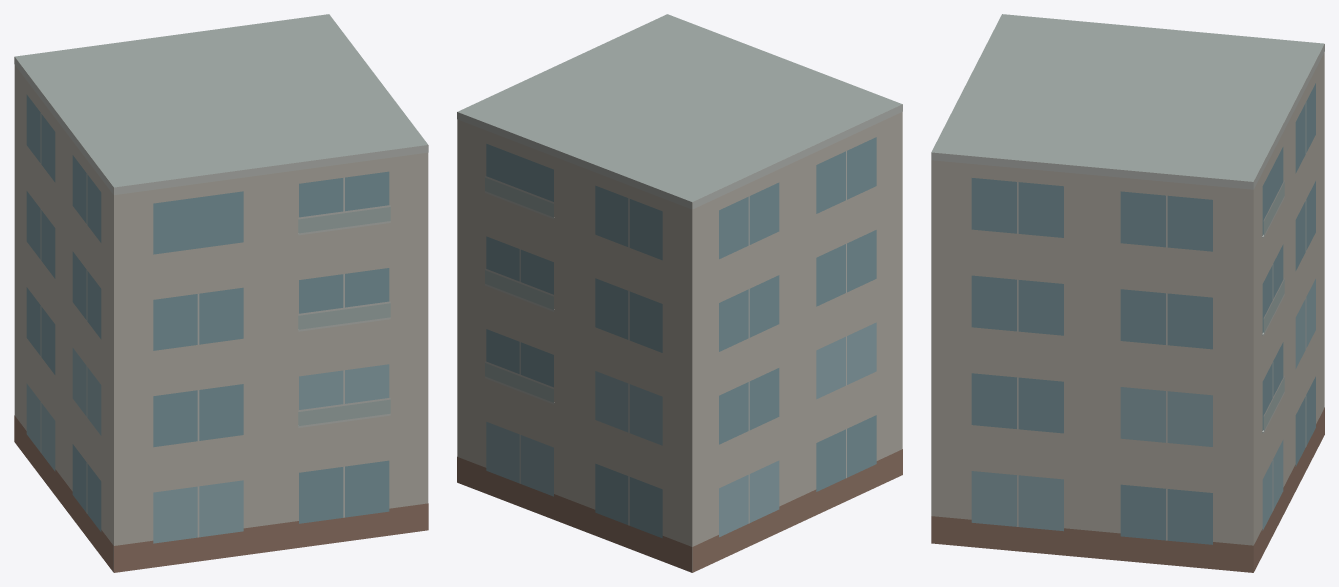
File: residential-bdf60ed7-2a9d-4e87-952f-36d0d0f51bb3.glb
3 renders of one model, left to right at view 1: azimuth 30°, elevation 25°; view 2: azimuth 150°, elevation 25°; view 3: azimuth 270°, elevation 25°, orthographic. The views are drawn at different scales.
Visible parts, largest first — view 1: residential-bdf60ed7-2a9d-4e87-952f-36d0d0f51bb3.tmp; view 2: residential-bdf60ed7-2a9d-4e87-952f-36d0d0f51bb3.tmp; view 3: residential-bdf60ed7-2a9d-4e87-952f-36d0d0f51bb3.tmp.
Boxes of the visible parts, x1=… form: residential-bdf60ed7-2a9d-4e87-952f-36d0d0f51bb3.tmp: x1=14, y1=14, x2=428, y2=572; residential-bdf60ed7-2a9d-4e87-952f-36d0d0f51bb3.tmp: x1=457, y1=14, x2=902, y2=572; residential-bdf60ed7-2a9d-4e87-952f-36d0d0f51bb3.tmp: x1=931, y1=14, x2=1324, y2=572.
Size of the model in its own units: 11.25 by 12.2 by 11.14.
